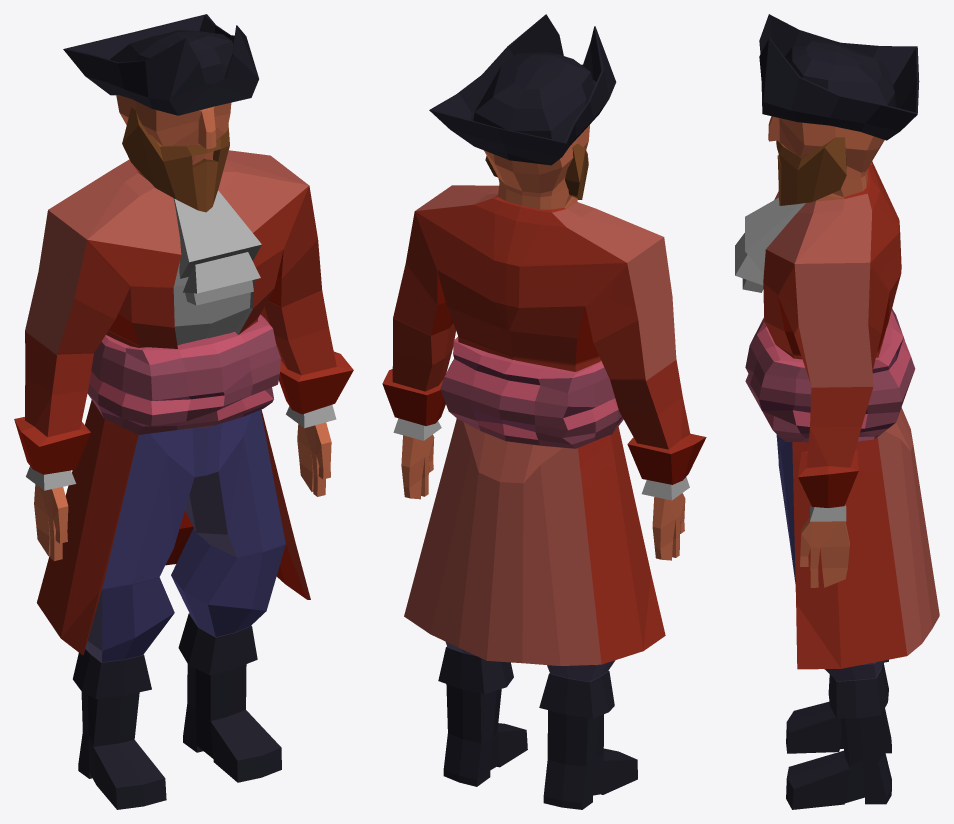
File: aaron_pirate main character1 (1).fbx
The picture shows the model from 3 angles, left to right: view 1: azimuth 30°, elevation 25°; view 2: azimuth 150°, elevation 25°; view 3: azimuth 270°, elevation 25°; orthographic projection. The views are drawn at different scales.
Visible parts, largest first — view 1: Cube; view 2: Cube; view 3: Cube.
Part boxes in pixels (left/top/right/bottom): Cube: left=14, top=14, right=353, bottom=809; Cube: left=382, top=14, right=706, bottom=809; Cube: left=735, top=14, right=939, bottom=809.
Size of the model in its own units: 189 by 434 by 108.
